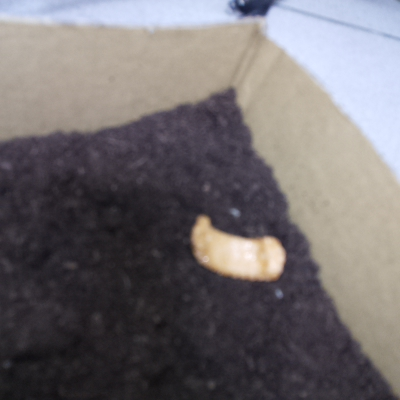eggs: (185, 210, 292, 287)
